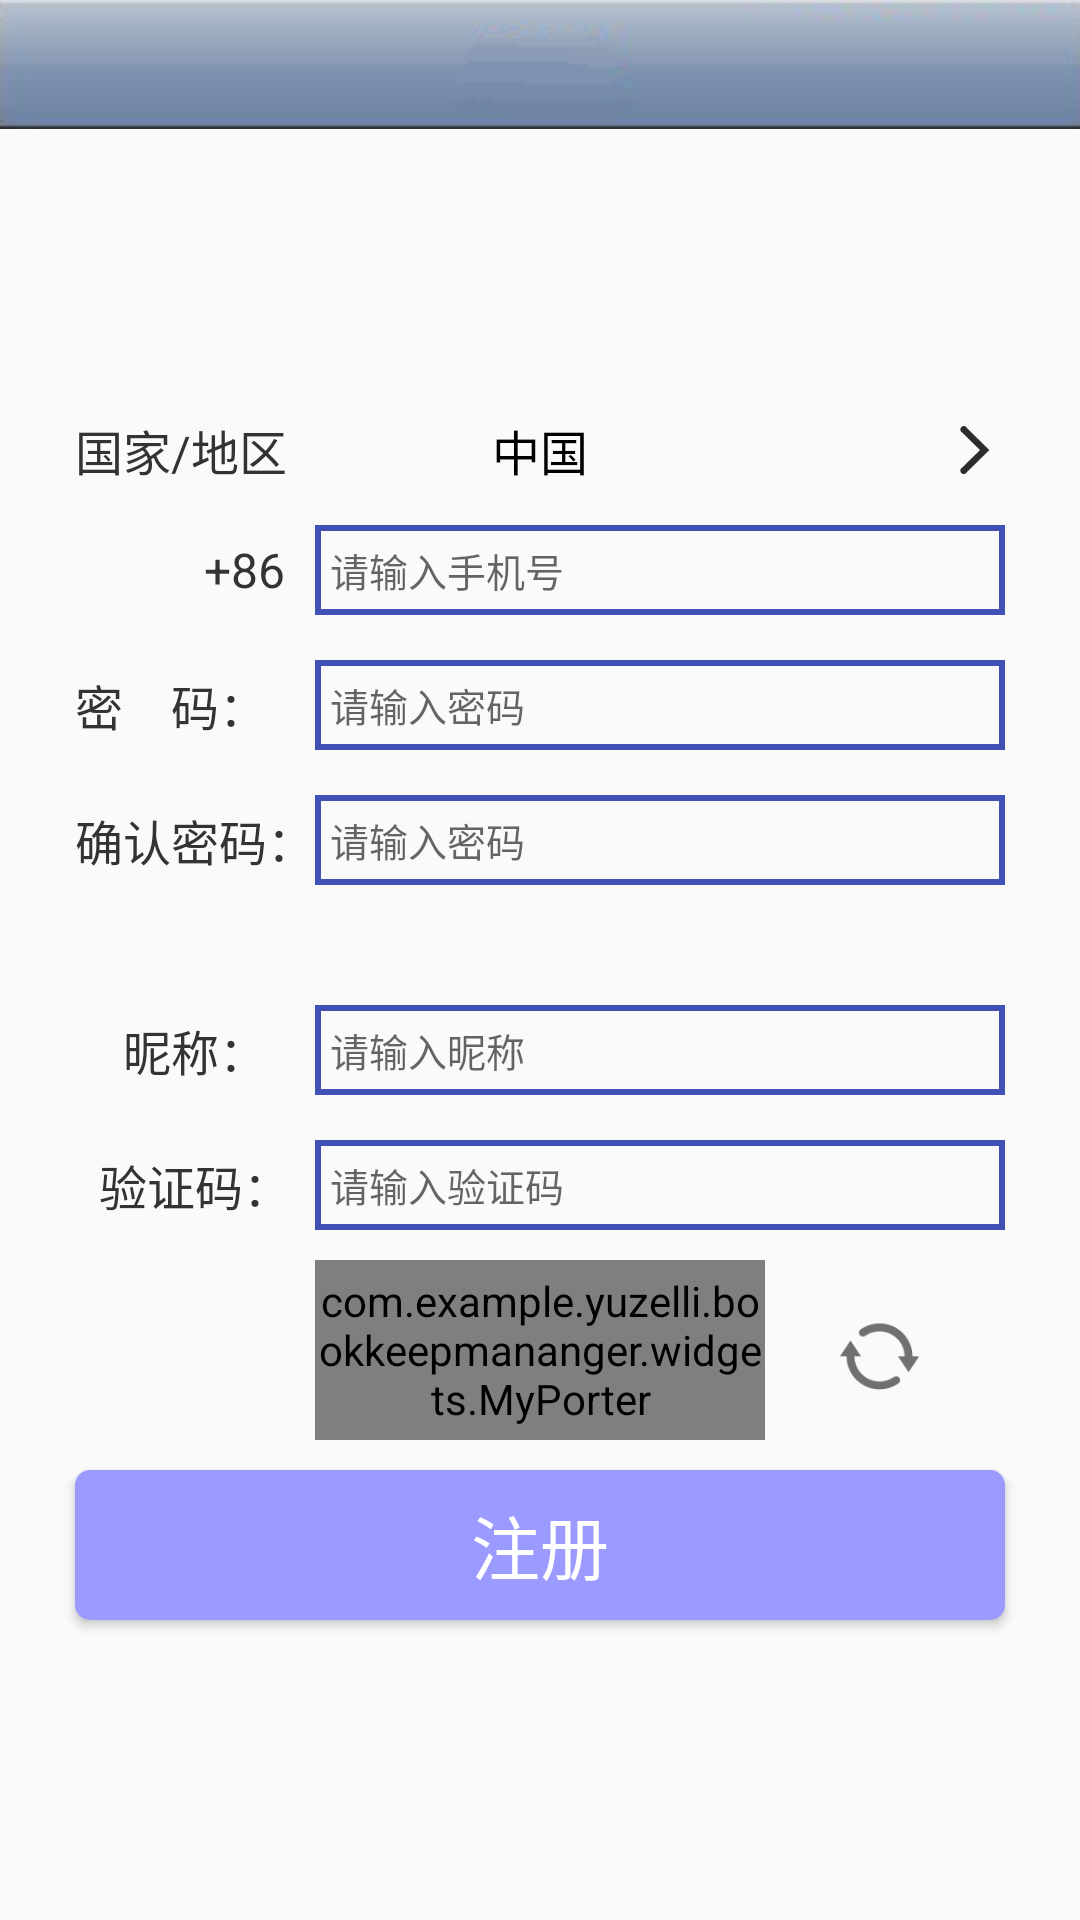

Icons on this 1080 x 1920 Android screen, each with its box as region(x1, y1, x2, y2):
refresh: region(840, 1323, 919, 1390)
reght: region(960, 426, 989, 474)
